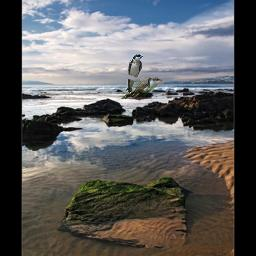Cuckoo: (120, 77, 162, 99)
Swallow: (126, 54, 143, 93)
